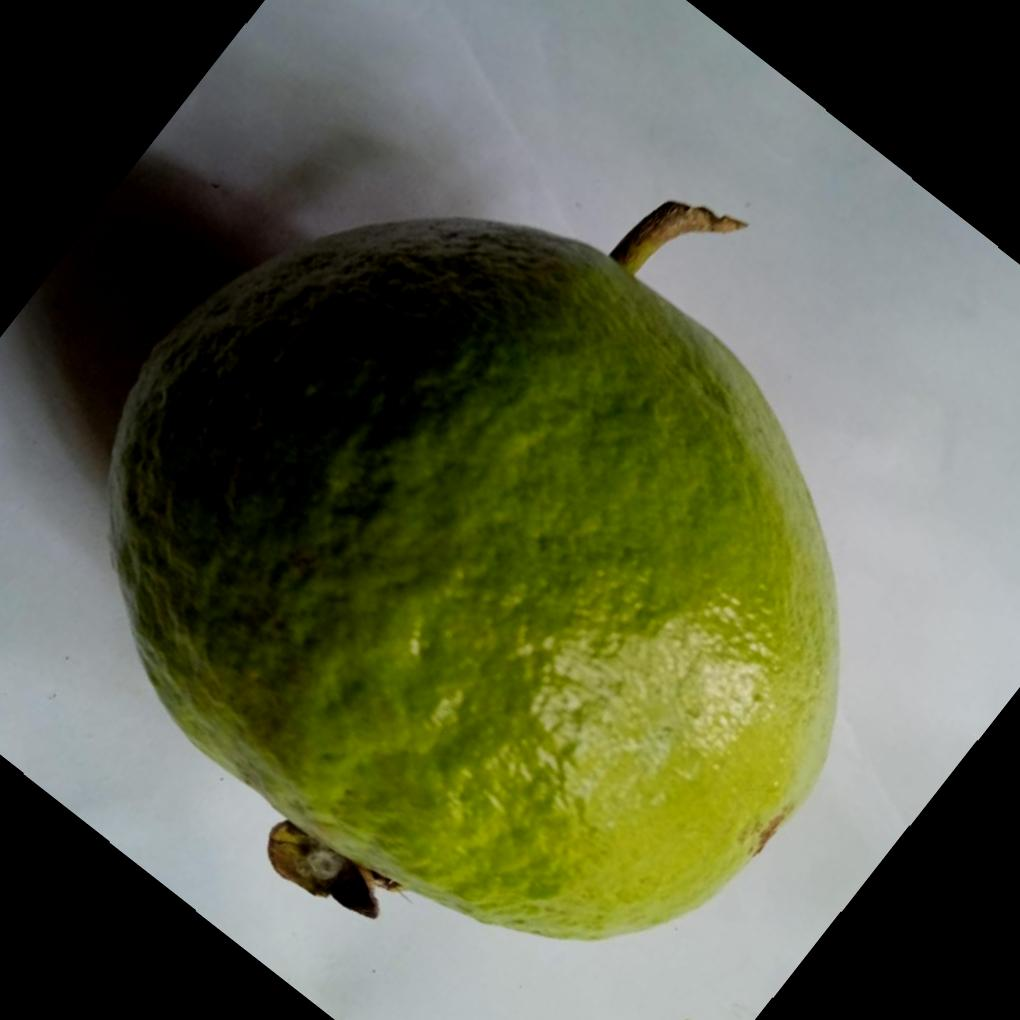FreshGuava: (100, 204, 840, 941)
